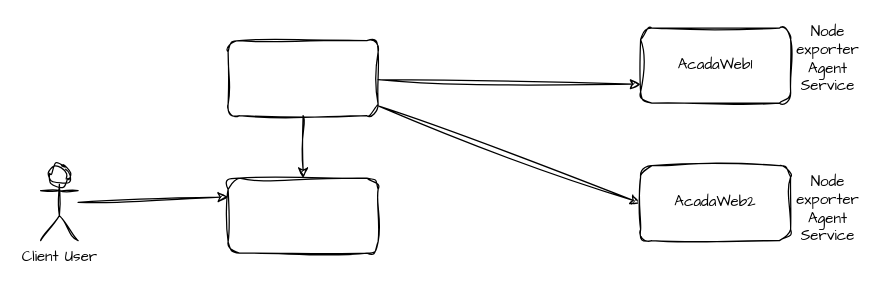
Image size: 886x288. Some labels were removed from this diagram. The shapes that lost their labels are listed below. From the top down, each one's box as (x1, y1, x2, y2) in pixels, then its label:
(227, 39, 378, 116): Prometheus
(227, 177, 378, 253): Grafana
